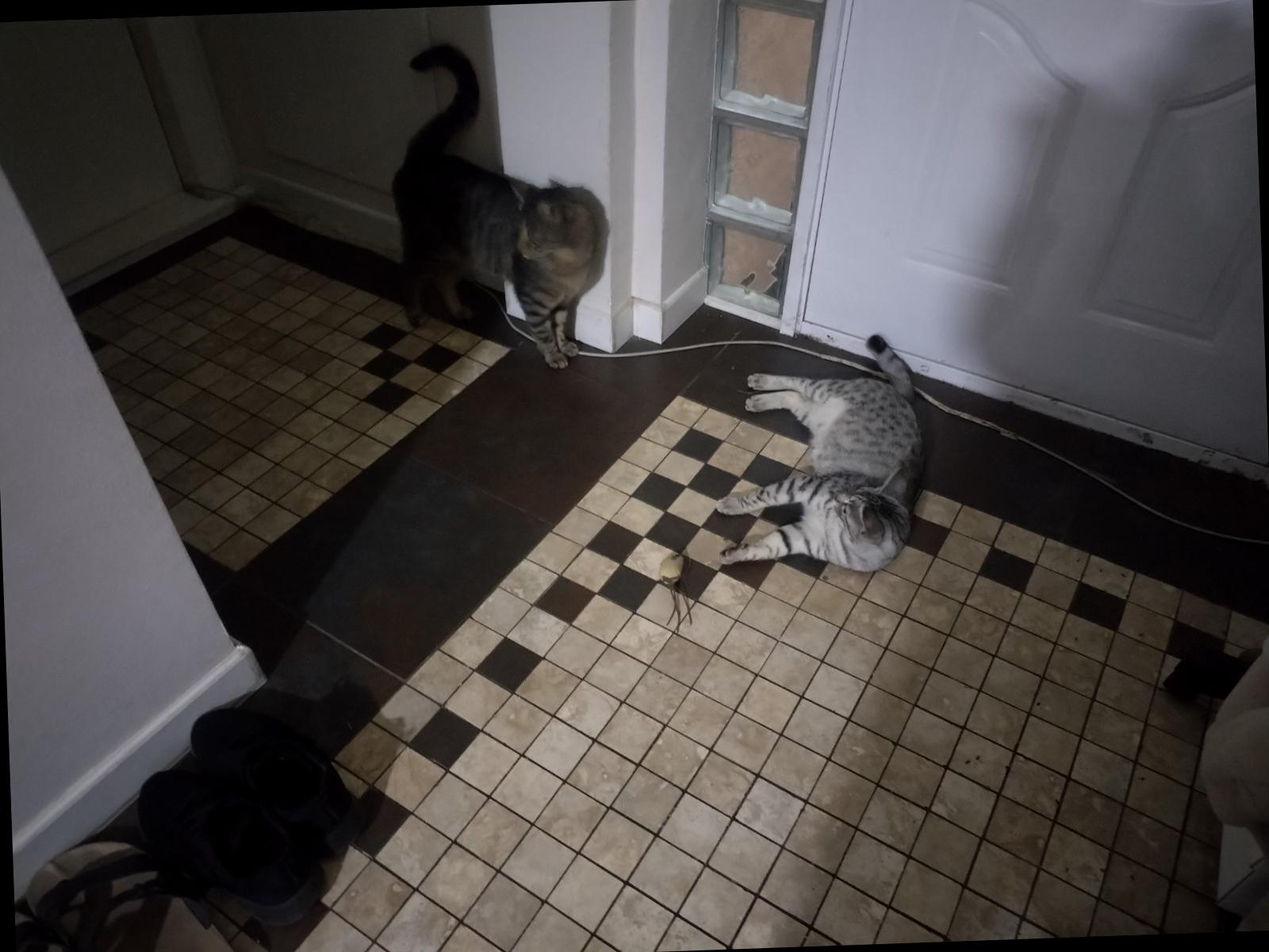macka: (387, 36, 604, 374), (706, 333, 941, 579)
